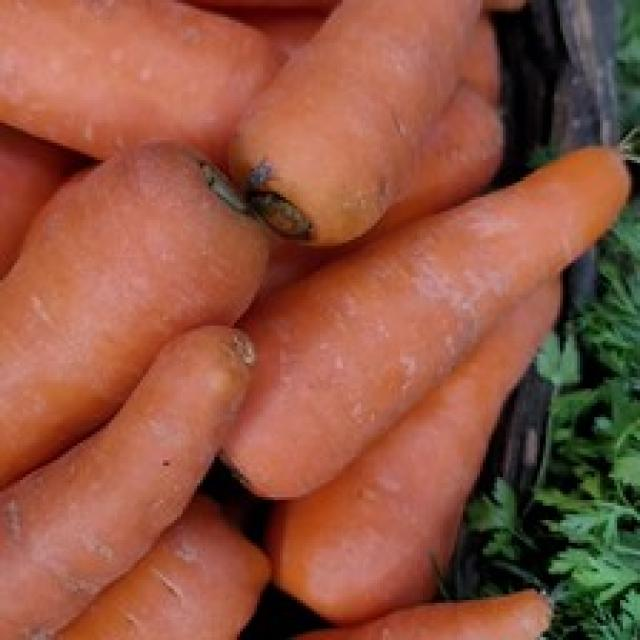Fresh_Carrot: (237, 153, 624, 523), (277, 278, 547, 610), (0, 154, 251, 426), (239, 0, 467, 245), (0, 0, 285, 159), (59, 530, 283, 640), (354, 605, 567, 640)
